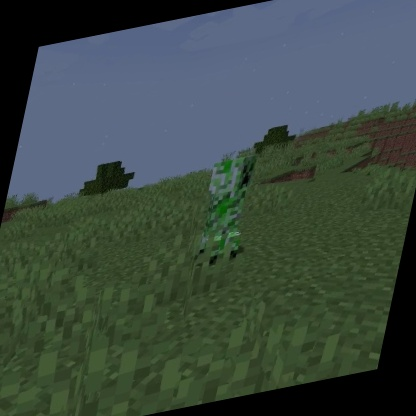creeper: (184, 150, 267, 273)
